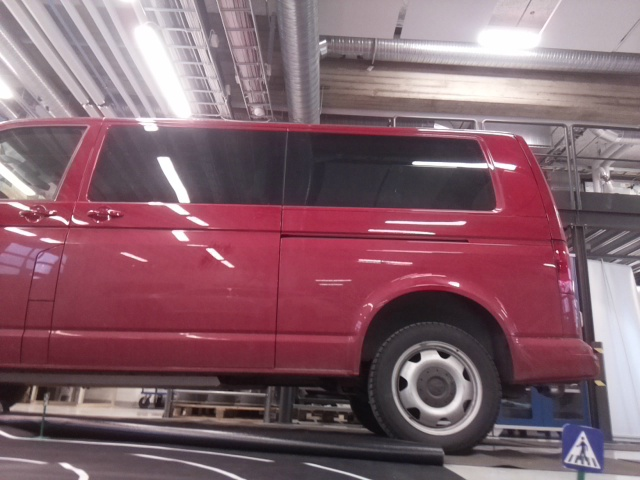Crosswalk: (560, 423, 604, 475)
